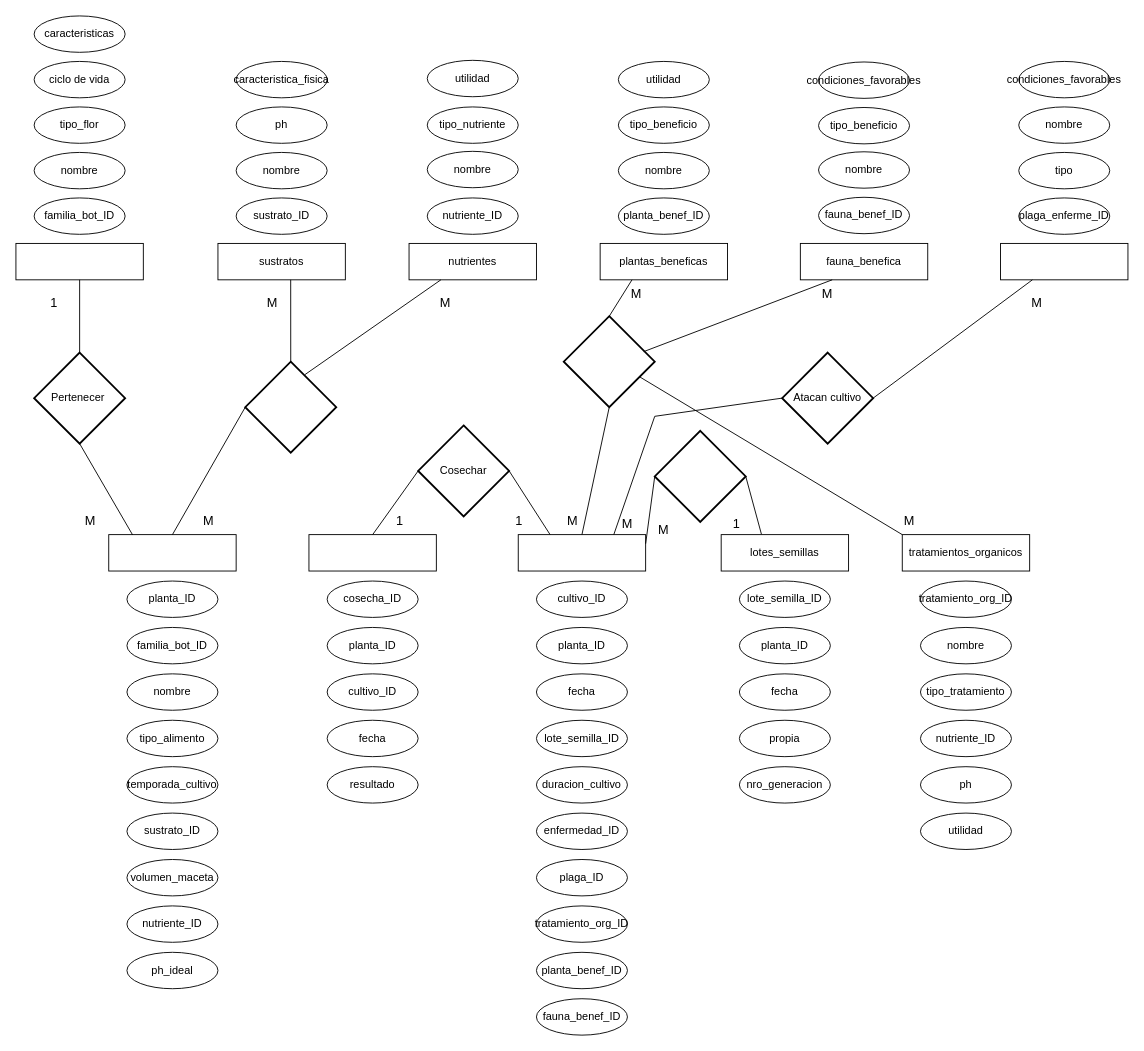
Some shapes in this 1144 by 1051 pixel diagram are drawn without their labels. Here are the shapes that lost their labels. From the top down, the centre of each, then its label:
At pixel 79 261: "familias_botanicas".
At pixel 1064 261: "plagas_enfermedades".
At pixel 608 361: "Aplicado al cultivo".
At pixel 290 406: "Necesitar".
At pixel 699 476: "Sembrar".
At pixel 172 552: "plantas_alimento".
At pixel 372 552: "cosechas".
At pixel 581 552: "cultivos".
